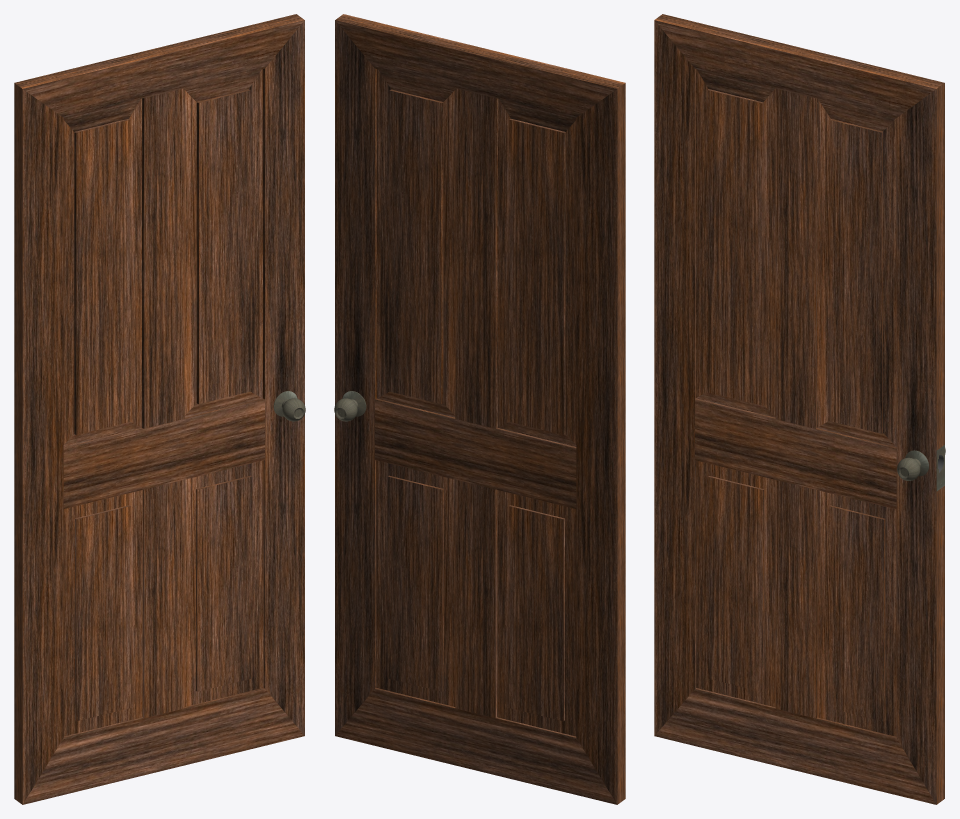
Rendered from Door.obj.
The picture shows the model from 3 angles, left to right: view 1: azimuth 30°, elevation 25°; view 2: azimuth 150°, elevation 25°; view 3: azimuth 330°, elevation 25°; orthographic projection.
Parts seen in each view (by area): view 1: Mesh7 FlushDoor36_1_1 Component_8_1 Model, Mesh9 Component_8_1 Model; view 2: Mesh8 FlushDoor36_1_2 Component_8_1 Model, Mesh9 Component_8_1 Model; view 3: Mesh7 FlushDoor36_1_1 Component_8_1 Model, Mesh9 Component_8_1 Model.
Part boxes in pixels (box(x1,y1,x2,y2)): Mesh7 FlushDoor36_1_1 Component_8_1 Model: box(22, 20, 304, 804); Mesh9 Component_8_1 Model: box(14, 14, 304, 804); Mesh8 FlushDoor36_1_2 Component_8_1 Model: box(335, 20, 617, 804); Mesh9 Component_8_1 Model: box(335, 14, 625, 804); Mesh7 FlushDoor36_1_1 Component_8_1 Model: box(654, 20, 936, 804); Mesh9 Component_8_1 Model: box(654, 14, 944, 804).
Bounding box in the file's own units: 34.85 × 84.48 × 7.47.
